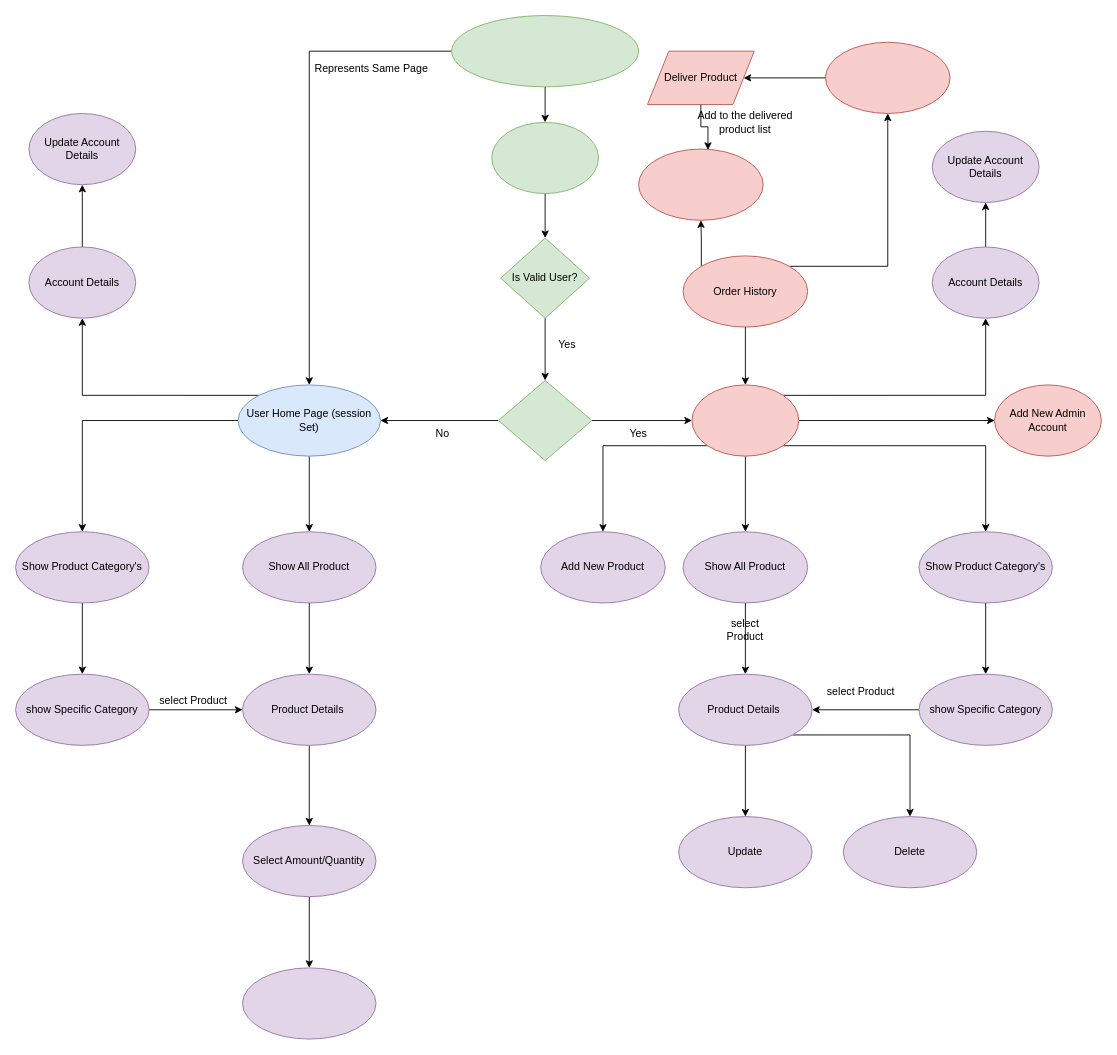
Some shapes in this 1117 by 1055 pixel diagram are drawn without their labels. Here are the shapes that lost their labels. From the top down, the centre of each, then its label:
(x=545, y=51): Home Page (no session Or cookie)
(x=887, y=77): Non_delivered Product
(x=545, y=157): Login
(x=700, y=184): Delivered Product
(x=545, y=420): Is Admin ?
(x=745, y=420): Admin Home Page (unique and confidential)
(x=309, y=1003): Add To Cart
